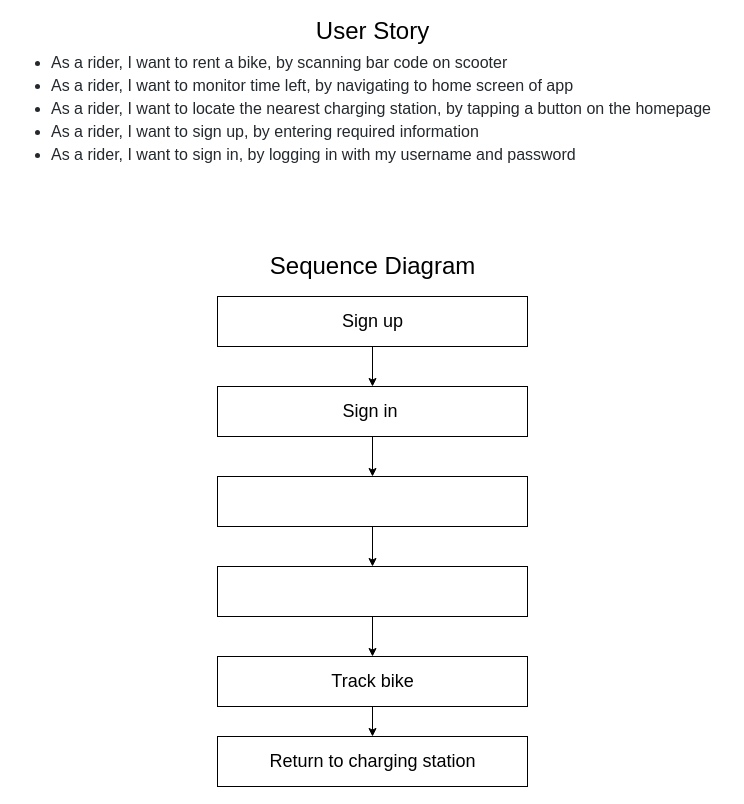
Image size: 744x804. Some labels were removed from this diagram. Each missing label, with the centre of its shape:
Rent bike: point 372,591
Validate user: point 372,501
